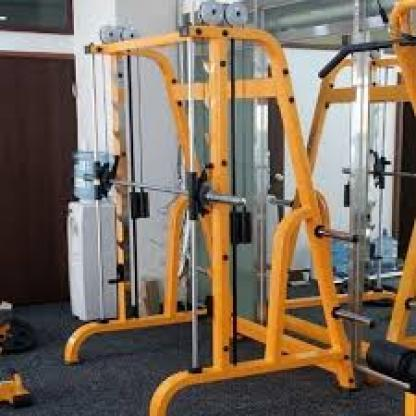smith machine: (94, 3, 316, 416)
